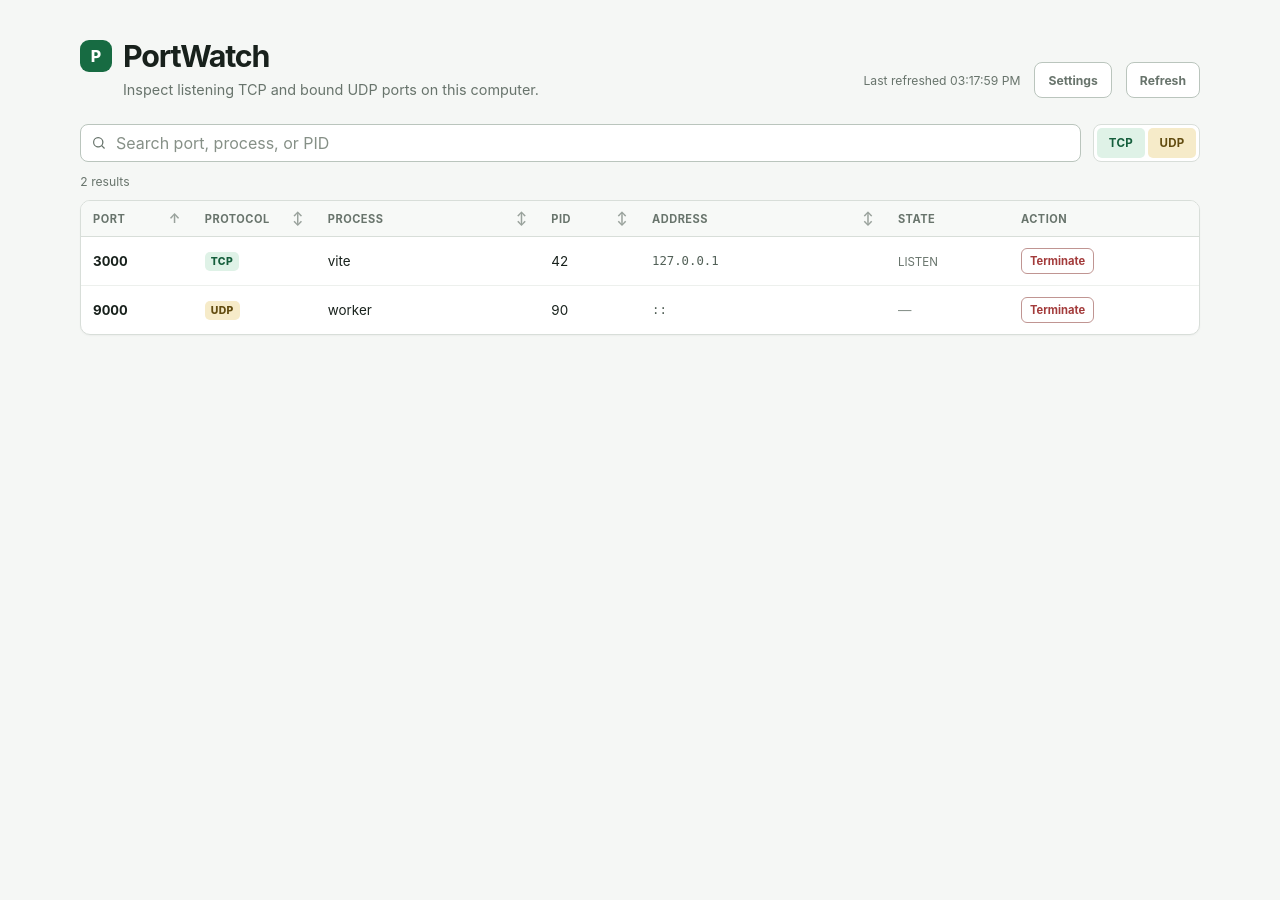
full view › refreshes only after backend-verified graceful termination
The image size is (1280, 900).
expect the text "vite" is shown: met, box [328,253,351,269]
Click the button with aria-label "Terminate vite on port 3000": [1058, 261] box [1021,248,1094,274]
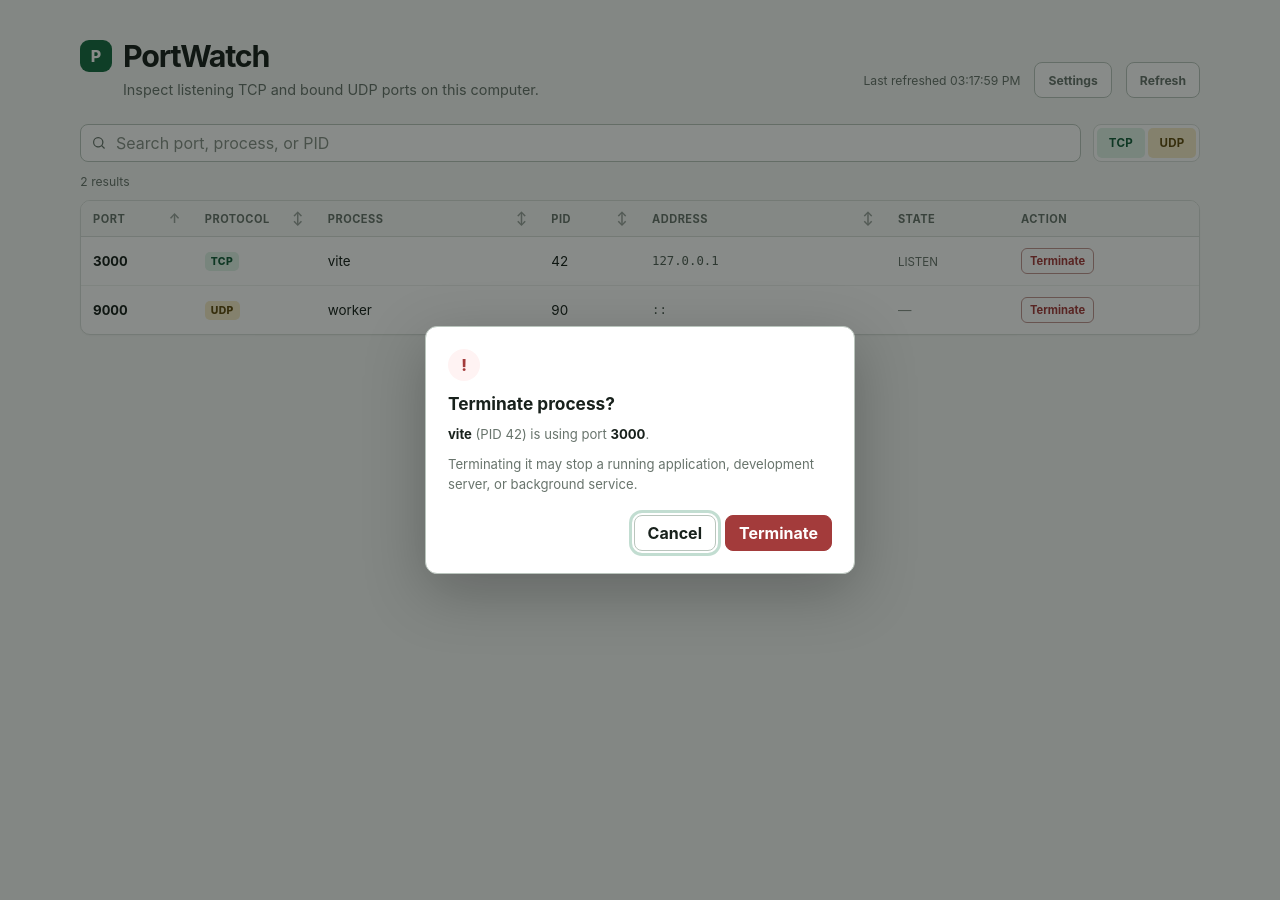
Click the button "Terminate": [778, 532] box [725,514,832,550]
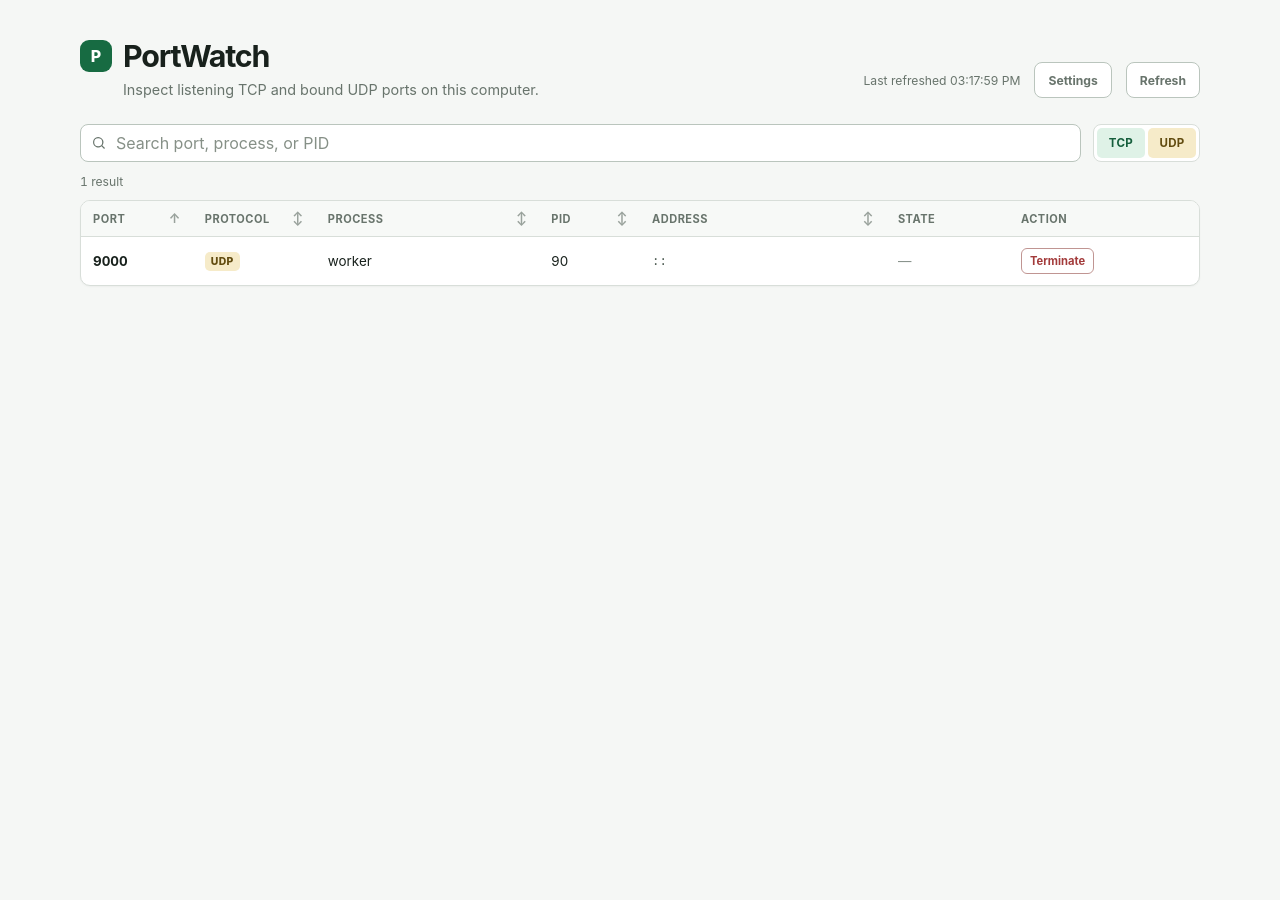
expect the text "vite" is gone: met
